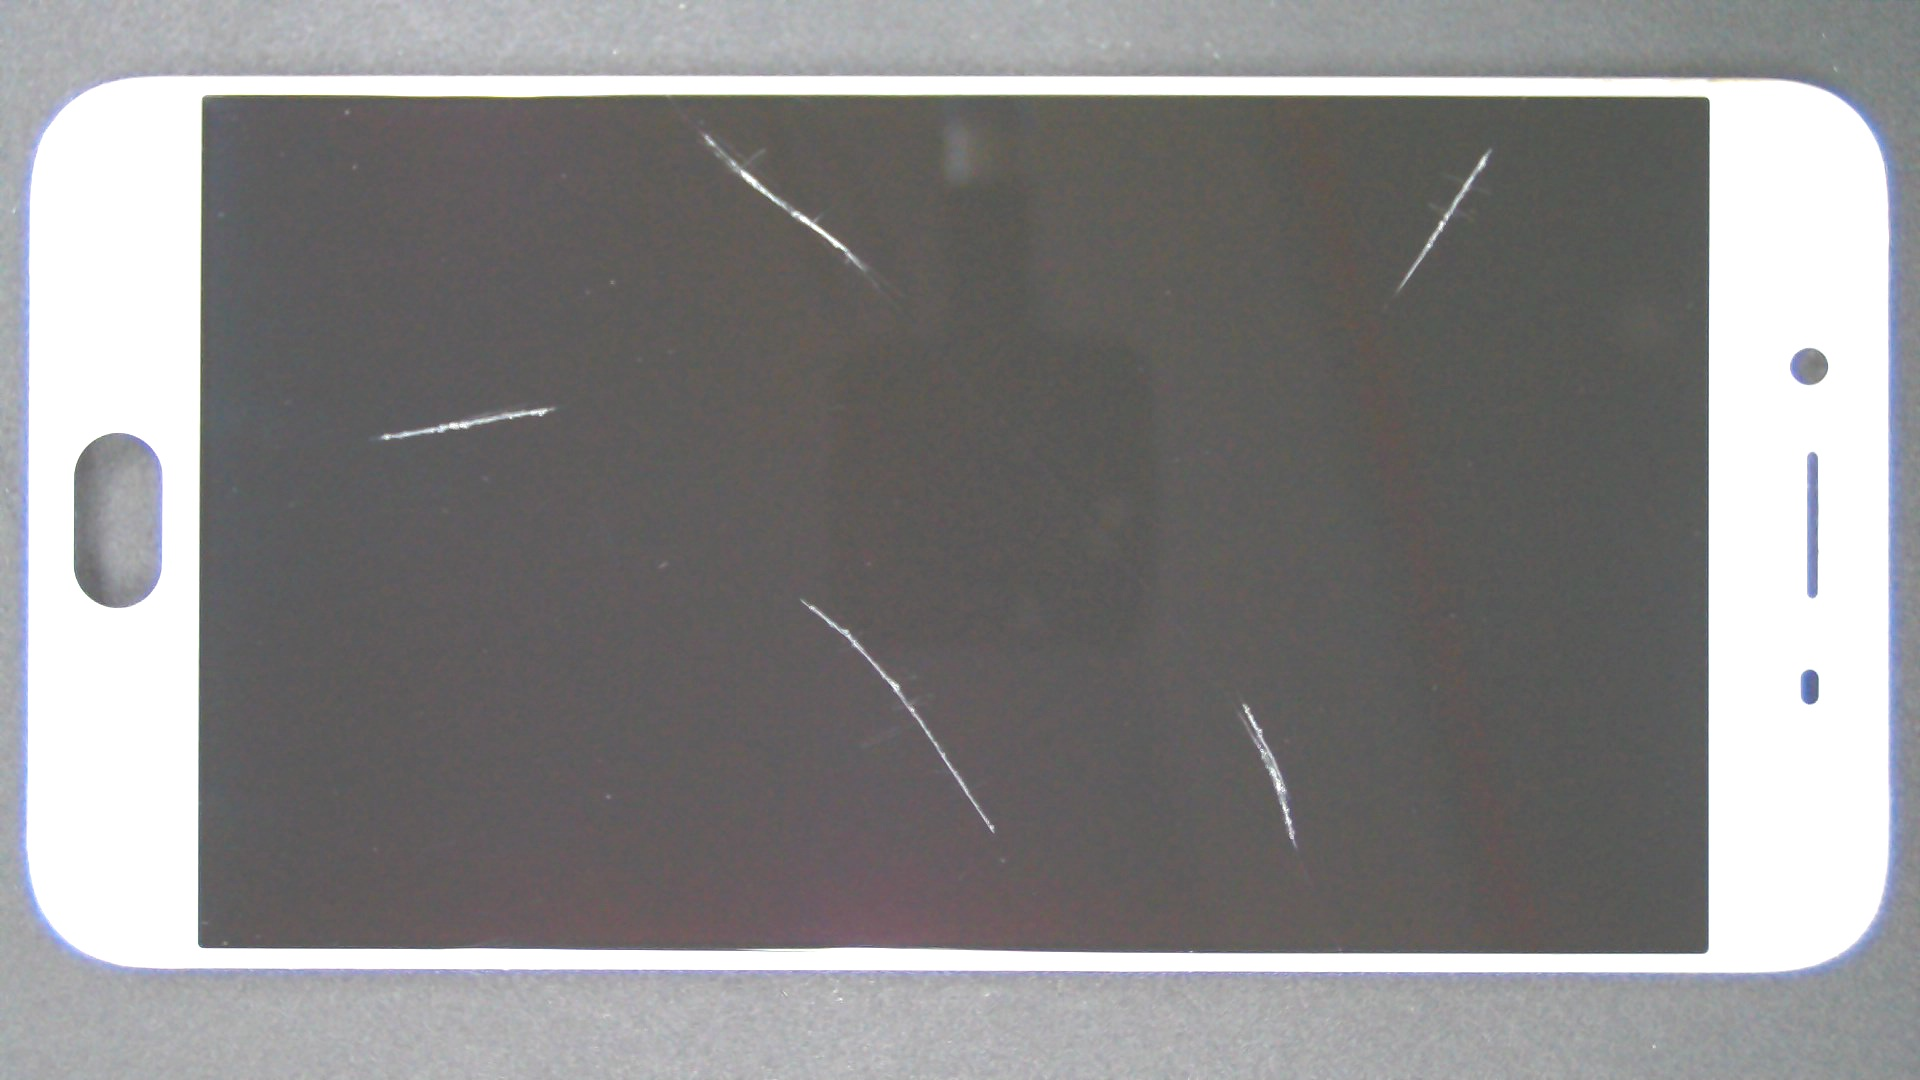oil: (621, 351, 1865, 1055), (401, 298, 1203, 899), (278, 202, 832, 608), (746, 73, 1920, 219), (351, 65, 1054, 194)
